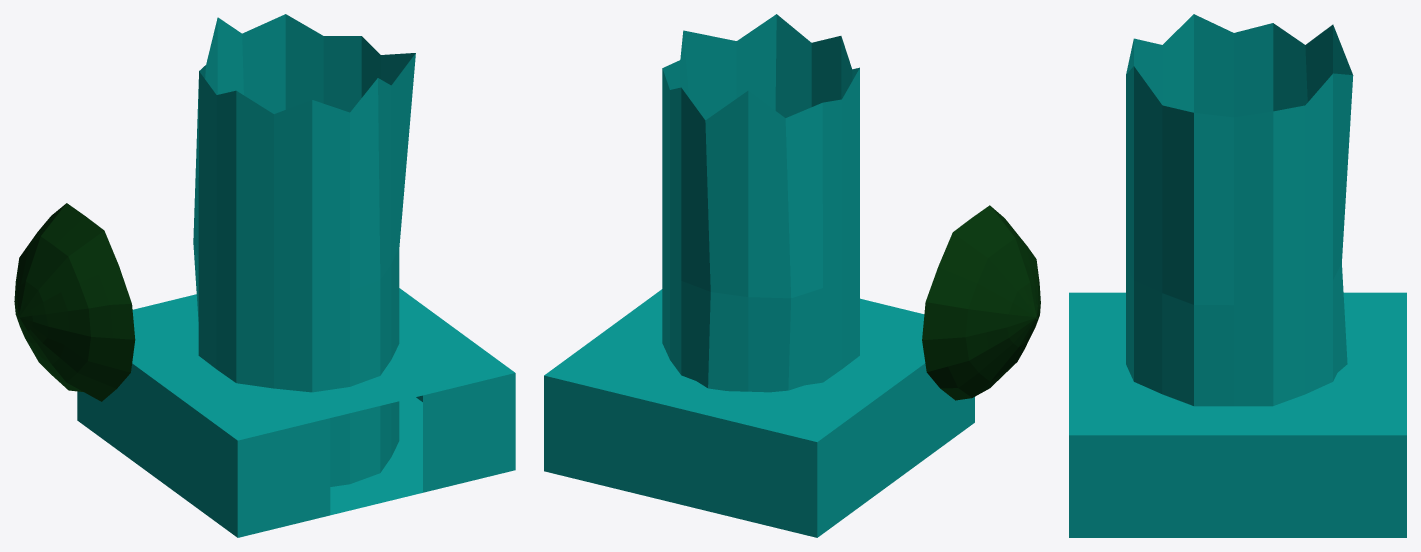
The model's file is stockpile2d.obj.
3 renders of one model, left to right at view 1: azimuth 30°, elevation 25°; view 2: azimuth 150°, elevation 25°; view 3: azimuth 270°, elevation 25°, orthographic. The views are drawn at different scales.
Visible parts, largest first — view 1: Cube.001, Cube, Cube.002; view 2: Cube.001, Cube, Cube.002; view 3: Cube.001, Cube.
Part boxes in pixels (x1,y1,x2,y2): Cube.001: [193, 14, 415, 486]; Cube: [77, 288, 515, 537]; Cube.002: [14, 203, 135, 401]; Cube.001: [662, 14, 859, 392]; Cube: [544, 289, 974, 537]; Cube.002: [922, 205, 1040, 400]; Cube.001: [1126, 14, 1353, 406]; Cube: [1069, 292, 1406, 537].
Bounding box in the file's own units: 13.07 × 12.12 × 8.67.
